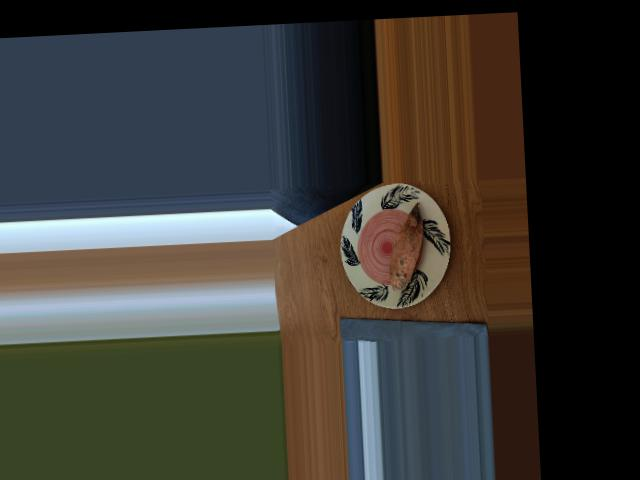sweet_potato: (381, 209, 433, 288)
